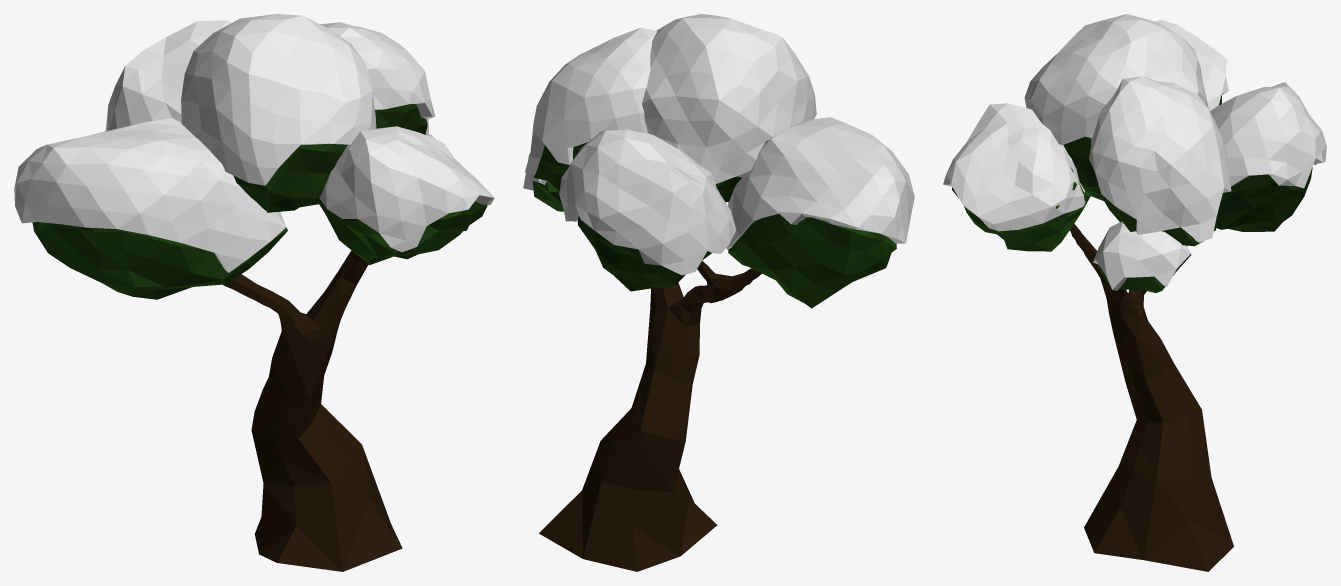
The model's file is common_tree_1_snow.glb.
The picture shows the model from 3 angles, left to right: view 1: azimuth 30°, elevation 25°; view 2: azimuth 150°, elevation 25°; view 3: azimuth 270°, elevation 25°; orthographic projection. The views are drawn at different scales.
Parts seen in each view (by area): view 1: common_tree_1_snow_snow, common_tree_1_snow_trunk, common_tree_1_snow_leaves, common_tree_1_snow_leaves_dark; view 2: common_tree_1_snow_snow, common_tree_1_snow_trunk, common_tree_1_snow_leaves, common_tree_1_snow_leaves_dark; view 3: common_tree_1_snow_snow, common_tree_1_snow_trunk, common_tree_1_snow_leaves_dark, common_tree_1_snow_leaves.
Part boxes in pixels (x1,y1,x2,y2): common_tree_1_snow_snow: (14,14,494,272); common_tree_1_snow_trunk: (223,250,402,571); common_tree_1_snow_leaves: (32,197,487,299); common_tree_1_snow_leaves_dark: (233,103,427,212); common_tree_1_snow_snow: (523,14,914,275); common_tree_1_snow_trunk: (539,260,761,571); common_tree_1_snow_leaves: (532,141,896,308); common_tree_1_snow_leaves_dark: (534,142,741,291); common_tree_1_snow_snow: (943,14,1326,290); common_tree_1_snow_trunk: (1069,223,1233,571); common_tree_1_snow_leaves_dark: (1063,136,1312,246); common_tree_1_snow_leaves: (952,95,1221,293).
Size of the model in its own units: 4.94 by 6.37 by 4.48.
